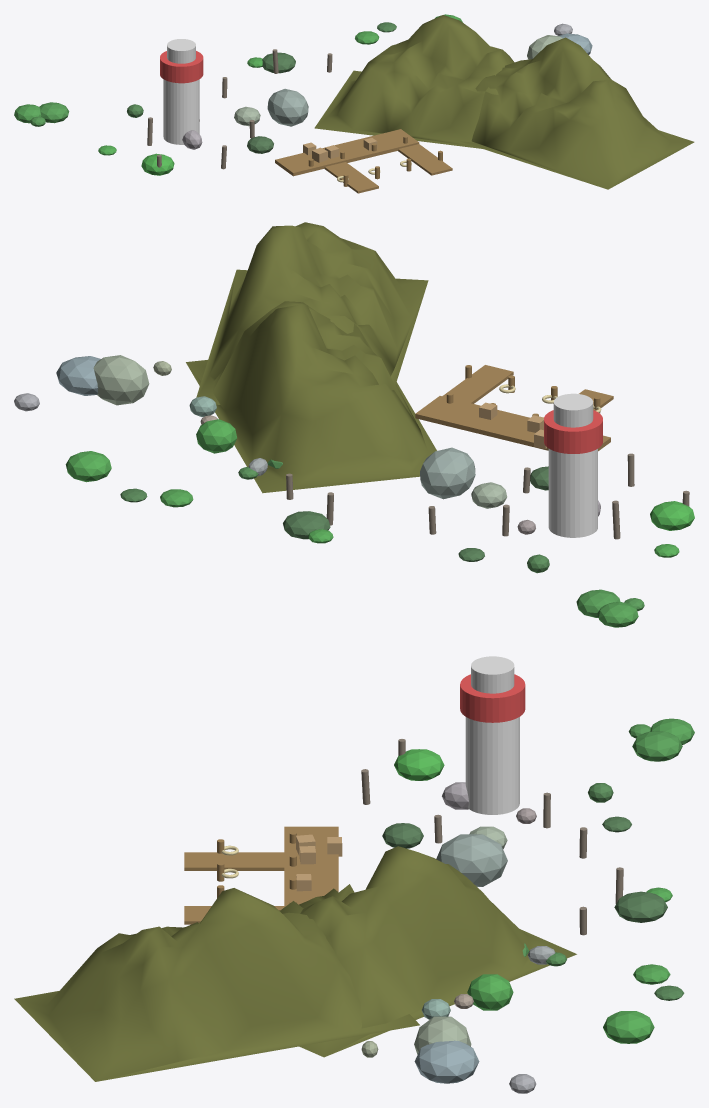
The model's file is new_harbor.fbx.
3 renders of one model, top to bottom at view 1: azimuth 30°, elevation 25°; view 2: azimuth 150°, elevation 25°; view 3: azimuth 270°, elevation 25°, orthographic. The views are drawn at different scales.
Parts seen in each view (by area): view 1: Landscape.001, Landscape.002, MainPier, LighthouseBase, Rock_6, LighthouseTop, Jetty1, Jetty2, LighthouseRoom, Vegetation_4, Vegetation_19, Vegetation_6 (+6 smaller); view 2: Landscape.002, Landscape.001, LighthouseBase, MainPier, Rock_6, Rock_0, LighthouseTop, Rock_4, Jetty1, LighthouseRoom, Vegetation_17, Vegetation_11 (+5 smaller); view 3: Landscape.001, Landscape.002, LighthouseBase, MainPier, Rock_6, LighthouseTop, Rock_4, Jetty2, LighthouseRoom, Vegetation_17, Vegetation_11, Vegetation_6 (+5 smaller).
Boxes of the visible parts, x1=… form: Landscape.001: x1=460, y1=37, x2=694, y2=189; Landscape.002: x1=314, y1=15, x2=514, y2=148; MainPier: x1=275, y1=129, x2=419, y2=176; LighthouseBase: x1=163, y1=79, x2=199, y2=144; Rock_6: x1=267, y1=88, x2=308, y2=126; LighthouseTop: x1=160, y1=51, x2=203, y2=83; Jetty1: x1=398, y1=144, x2=452, y2=175; Jetty2: x1=324, y1=162, x2=378, y2=193; LighthouseRoom: x1=167, y1=39, x2=195, y2=63; Vegetation_4: x1=141, y1=153, x2=174, y2=175; Vegetation_19: x1=39, y1=102, x2=69, y2=123; Vegetation_6: x1=262, y1=52, x2=295, y2=73; Landscape.002: x1=186, y1=301, x2=436, y2=493; Landscape.001: x1=196, y1=222, x2=428, y2=404; LighthouseBase: x1=548, y1=449, x2=597, y2=537; MainPier: x1=415, y1=396, x2=610, y2=451; Rock_6: x1=420, y1=447, x2=475, y2=499; Rock_0: x1=93, y1=355, x2=149, y2=405; LighthouseTop: x1=544, y1=410, x2=602, y2=453; Rock_4: x1=56, y1=356, x2=100, y2=395; Jetty1: x1=442, y1=365, x2=513, y2=403; LighthouseRoom: x1=553, y1=393, x2=593, y2=427; Vegetation_17: x1=65, y1=451, x2=111, y2=482; Vegetation_11: x1=196, y1=419, x2=236, y2=453; Landscape.001: x1=14, y1=888, x2=419, y2=1081; Landscape.002: x1=279, y1=846, x2=576, y2=1057; LighthouseBase: x1=465, y1=717, x2=519, y2=814; MainPier: x1=284, y1=826, x2=338, y2=906; Rock_6: x1=436, y1=834, x2=507, y2=886; LighthouseTop: x1=460, y1=674, x2=525, y2=722; Rock_4: x1=414, y1=1040, x2=479, y2=1083; Jetty2: x1=184, y1=852, x2=284, y2=870; LighthouseRoom: x1=471, y1=656, x2=514, y2=693; Vegetation_17: x1=603, y1=1011, x2=654, y2=1043; Vegetation_11: x1=467, y1=974, x2=513, y2=1010; Vegetation_6: x1=614, y1=891, x2=667, y2=922.
Size of what is drawn, in the model's own units: 4815 by 920 by 3756.
